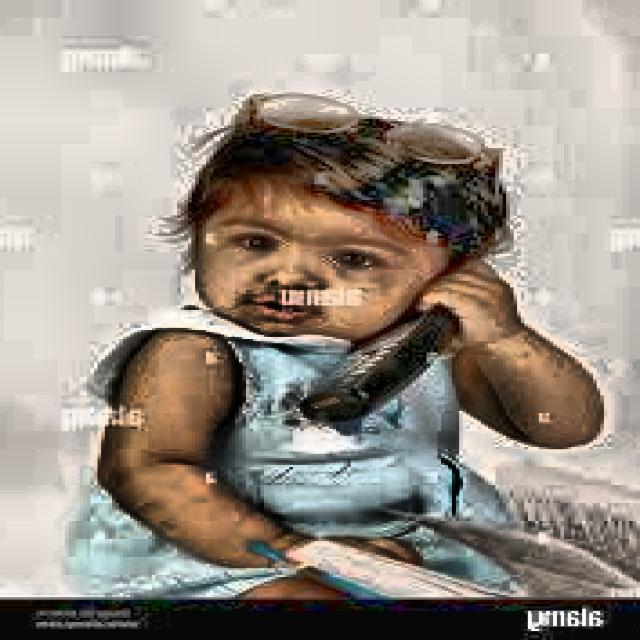Human: (118, 90, 596, 608)
